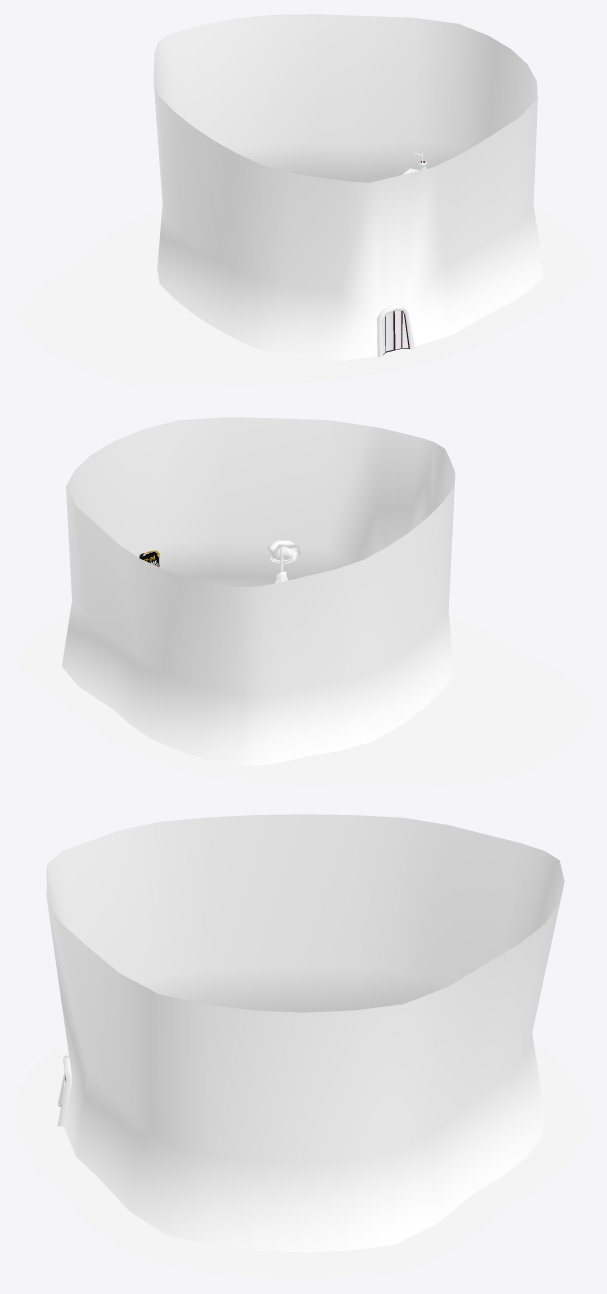
Rendered from chembun crib.glb.
The picture shows the model from 3 angles, top to bottom: view 1: azimuth 30°, elevation 25°; view 2: azimuth 150°, elevation 25°; view 3: azimuth 270°, elevation 25°; orthographic projection. The views are drawn at different scales.
Visible parts, largest first — view 1: Cylinder.007; view 2: Cylinder.007; view 3: Cylinder.007.
Boxes of the visible parts, x1,y1,x2,y2 form: Cylinder.007: [14, 14, 592, 388]; Cylinder.007: [14, 417, 592, 785]; Cylinder.007: [14, 814, 592, 1279].
Size of the model in its own units: 7.28 by 2.49 by 5.49.
Materials: 16 (1 with a texture image).
